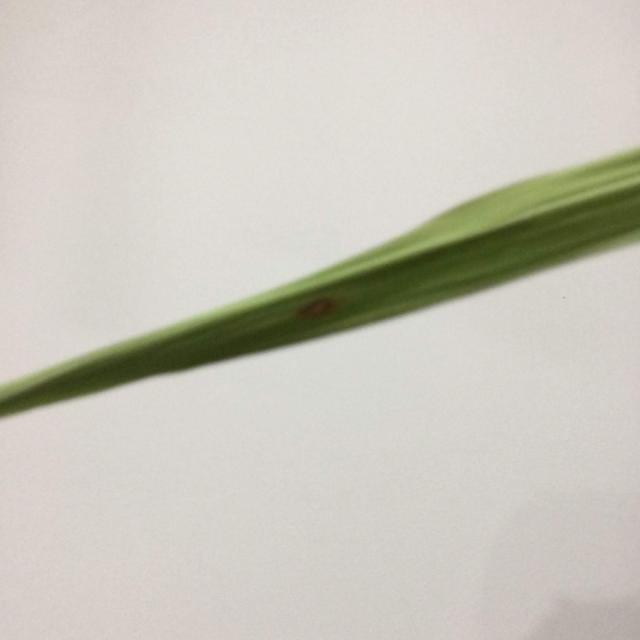Blast: (298, 298, 338, 322)
